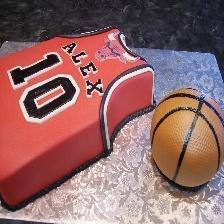Sports-Ball: (152, 89, 224, 190)
